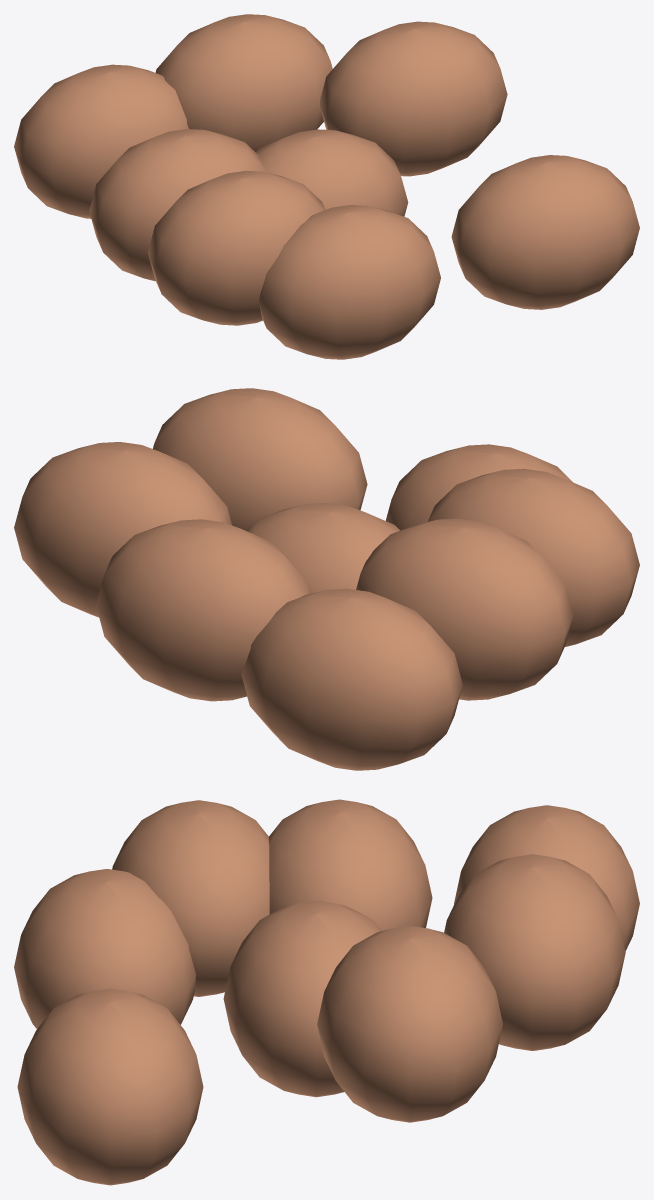
Rendered from boba_topping.glb.
The picture shows the model from 3 angles, top to bottom: view 1: azimuth 30°, elevation 25°; view 2: azimuth 150°, elevation 25°; view 3: azimuth 270°, elevation 25°; orthographic projection. The views are drawn at different scales.
Parts seen in each view (by area): view 1: model; view 2: model; view 3: model.
Part boxes in pixels (left/top/right/bottom): model: left=14, top=14, right=639, bottom=359; model: left=14, top=388, right=639, bottom=770; model: left=14, top=799, right=639, bottom=1185.
Size of the model in its own units: 0.3 by 0.12 by 0.3.
